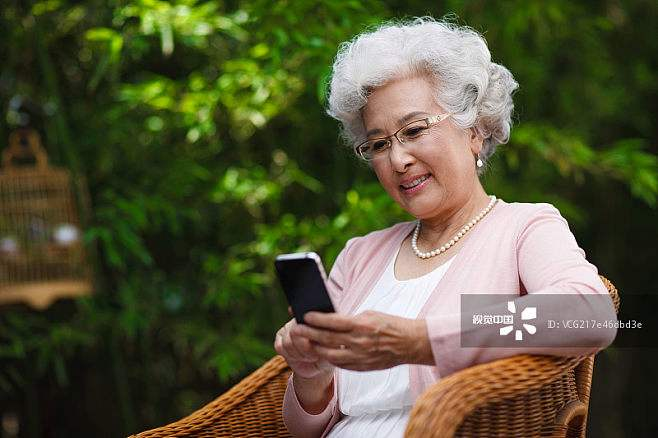reading: (268, 249, 425, 383)
